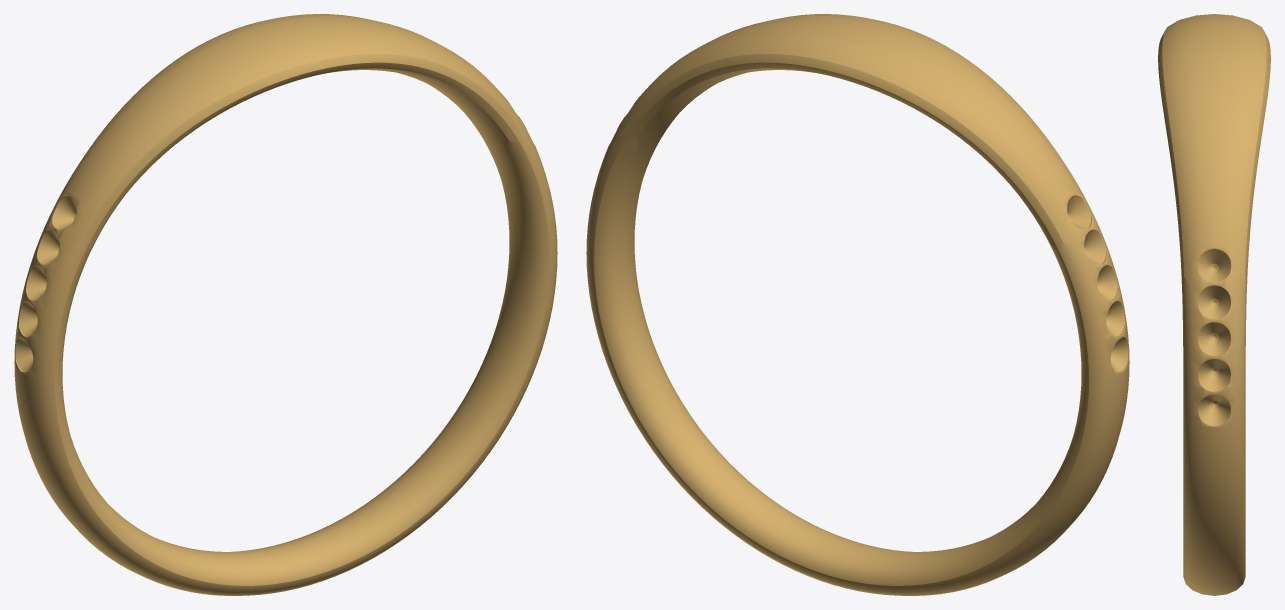
File: reverse-tapered-micro-pave-wide.glb
3 renders of one model, left to right at view 1: azimuth 30°, elevation 25°; view 2: azimuth 150°, elevation 25°; view 3: azimuth 270°, elevation 25°, orthographic. The views are drawn at different scales.
Visible parts, largest first — view 1: Band; view 2: Band; view 3: Band.
Part boxes in pixels (box(x1,y1,x2,y2)): Band: box(14, 14, 557, 595); Band: box(586, 14, 1129, 595); Band: box(1158, 14, 1270, 595).
Size of the model in its own units: 19.6 by 19.6 by 3.8.
